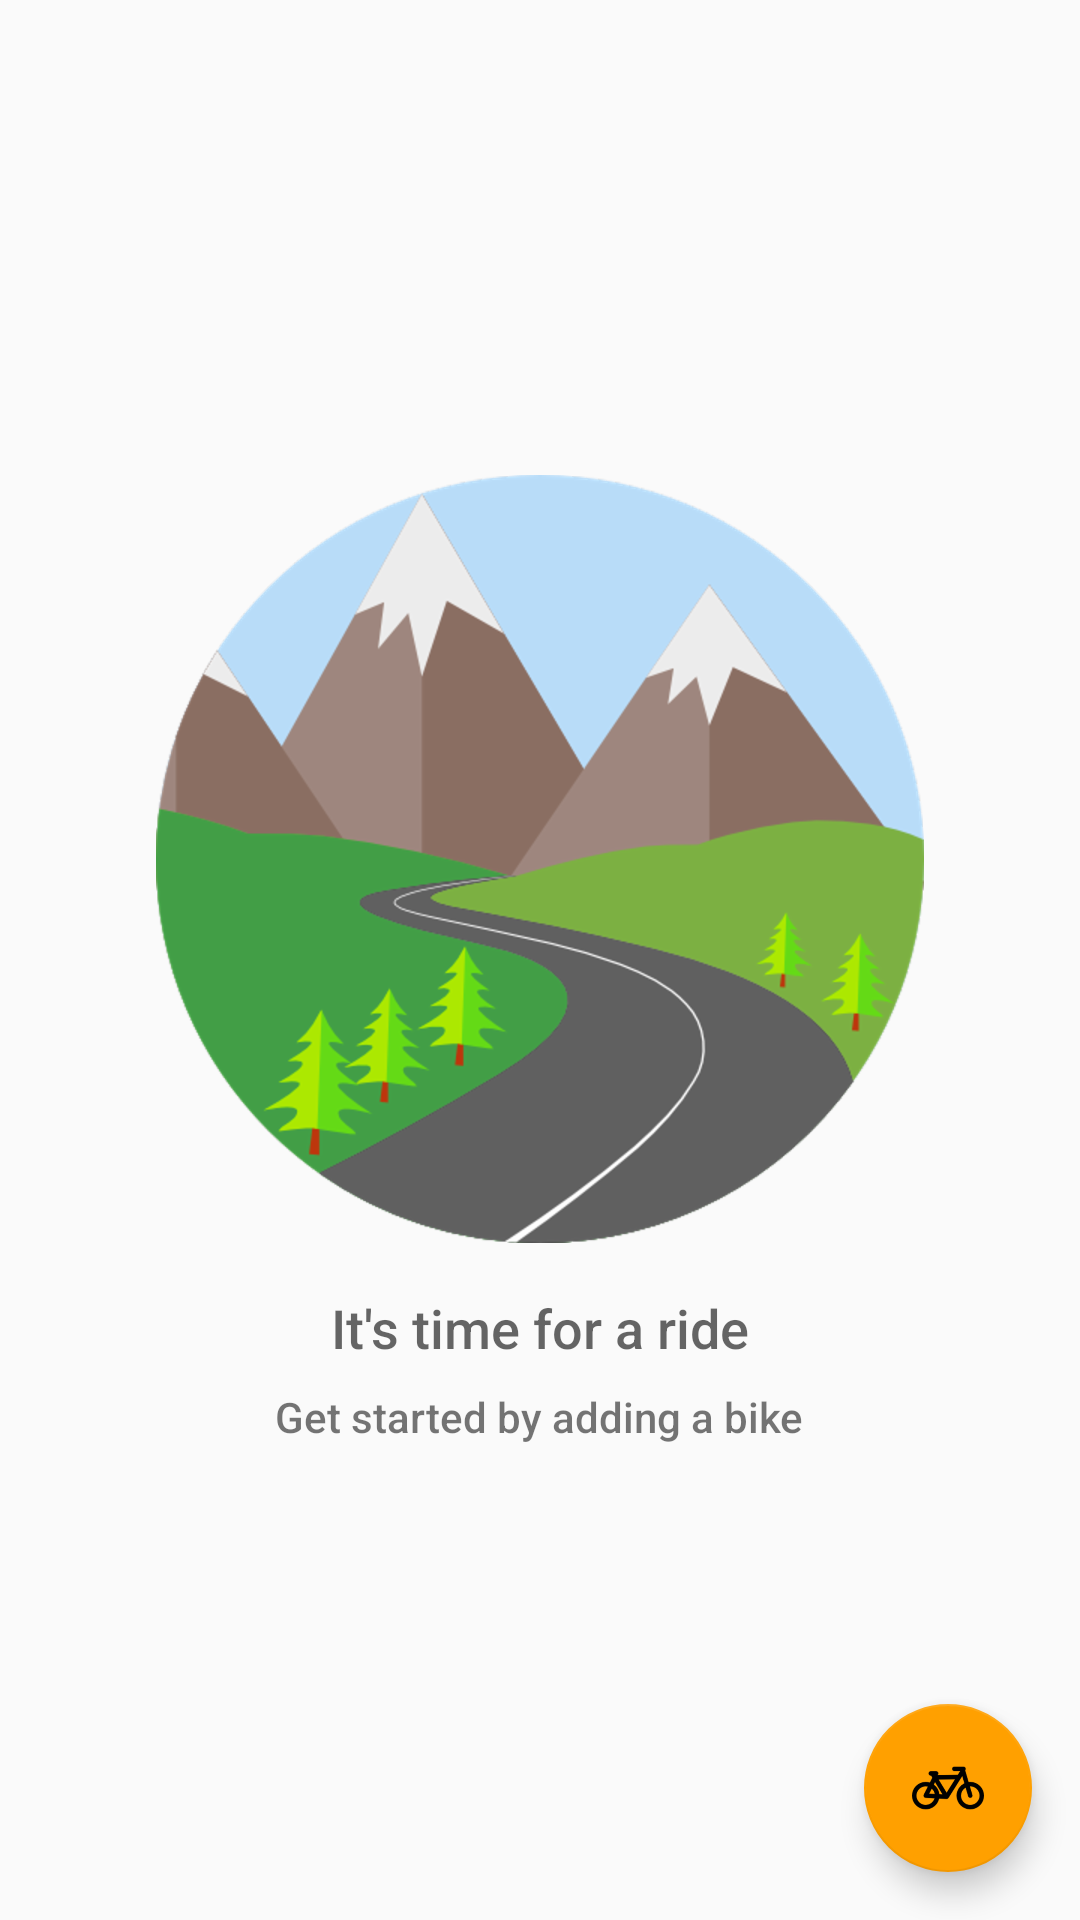

Screen size 1080px×1920px. Icon name, then its box in pixels as (x1,y1,x2,y2):
bike: (864,1704,1032,1872)
